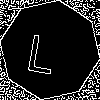L: (25, 25, 60, 75)
